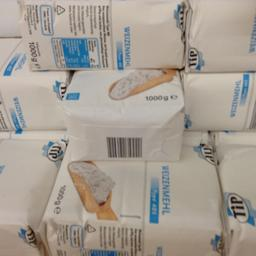flour: (38, 140, 223, 254), (15, 0, 186, 71), (58, 68, 185, 162)
